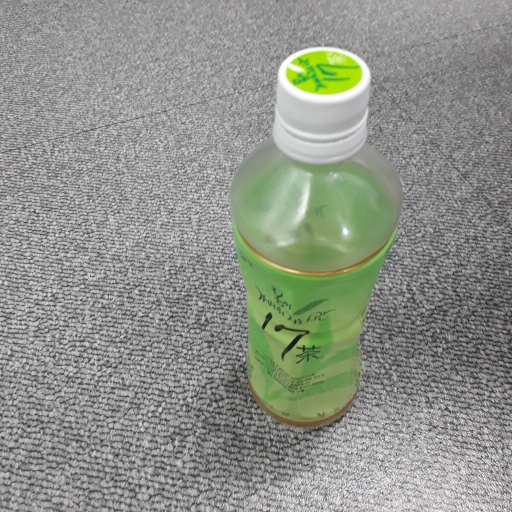Plastic_0: (230, 45, 402, 428)
